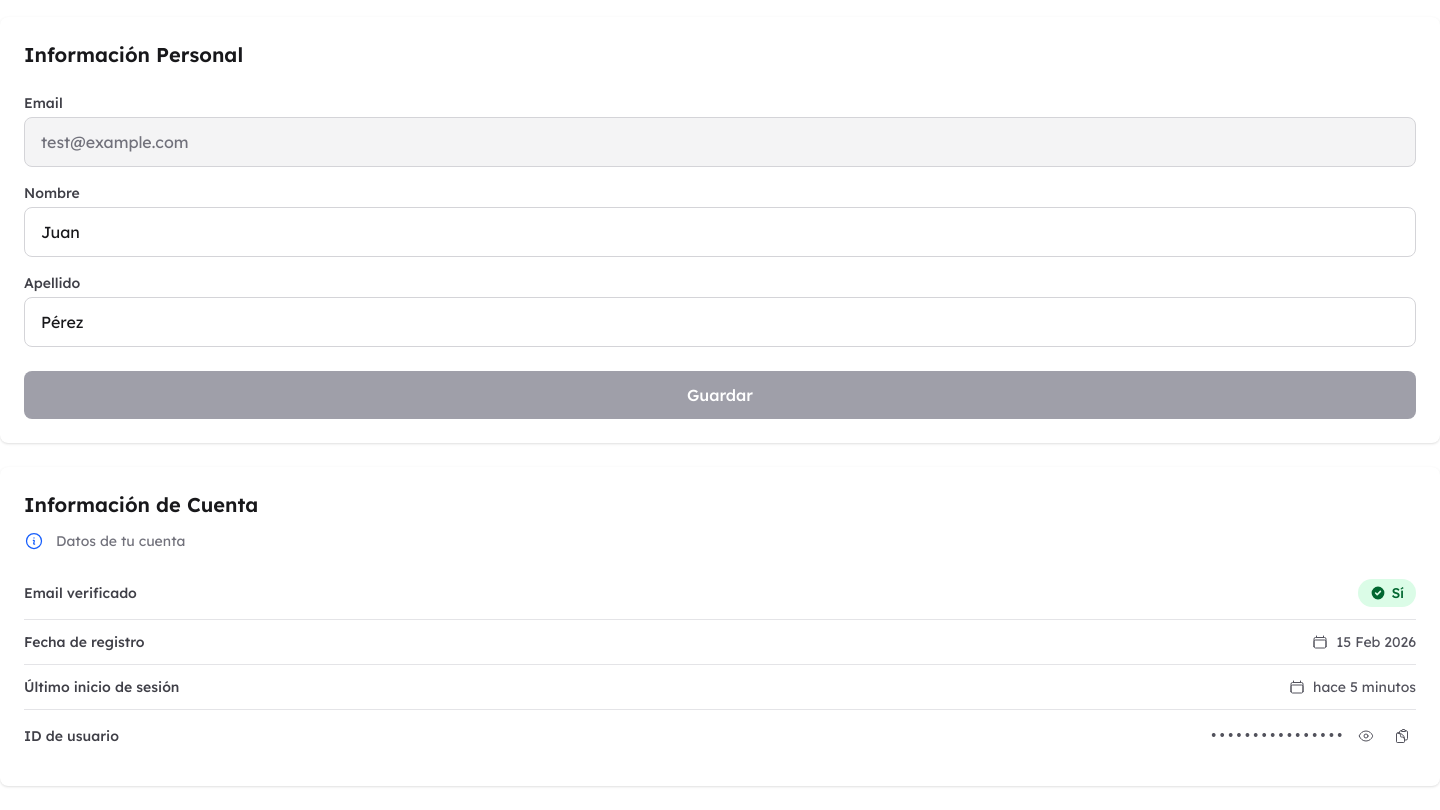
Test: AccountProfilePage › shows user ID when show button is clicked
(page scrolled)
Click the button named "Mostrar ID de usuario": (1366, 736) [1352,722,1380,750]
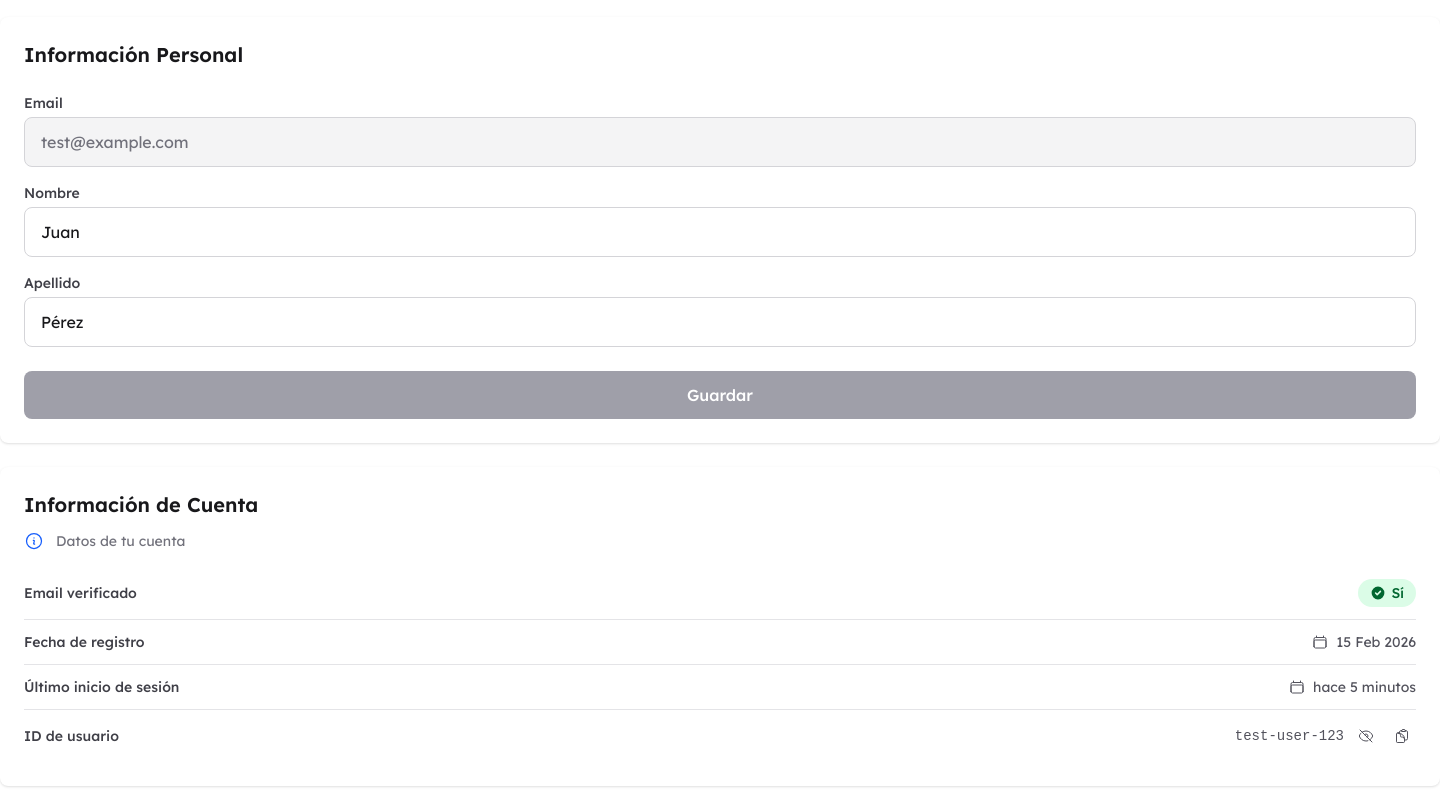
Result: the text "test-user-123" is shown at [1235,726,1344,746]
